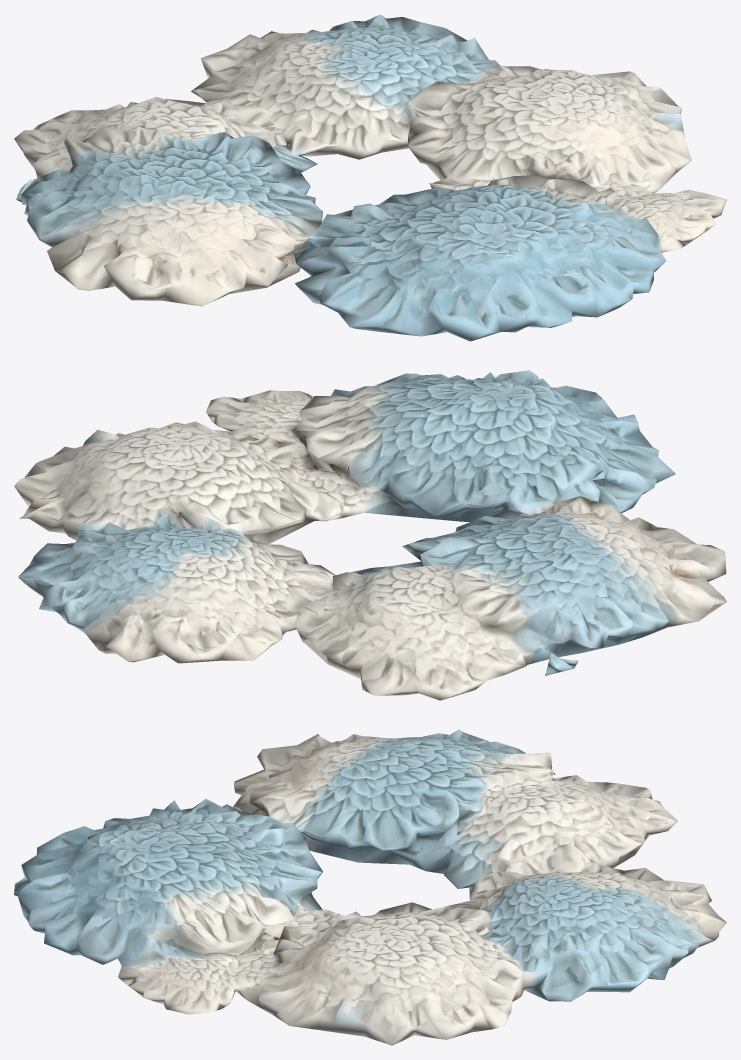
The picture shows the model from 3 angles, top to bottom: view 1: azimuth 30°, elevation 25°; view 2: azimuth 150°, elevation 25°; view 3: azimuth 270°, elevation 25°; orthographic projection. The views are drawn at different scales.
Parts seen in each view (by area): view 1: Mesh_0; view 2: Mesh_0; view 3: Mesh_0.
Part boxes in pixels (x1,y1,x2,y2): Mesh_0: (14,14,726,341); Mesh_0: (14,370,726,700); Mesh_0: (14,729,726,1045).
Size of the model in its own units: 1.9 by 0.1709 by 1.9.
1 material, 1 textured.
